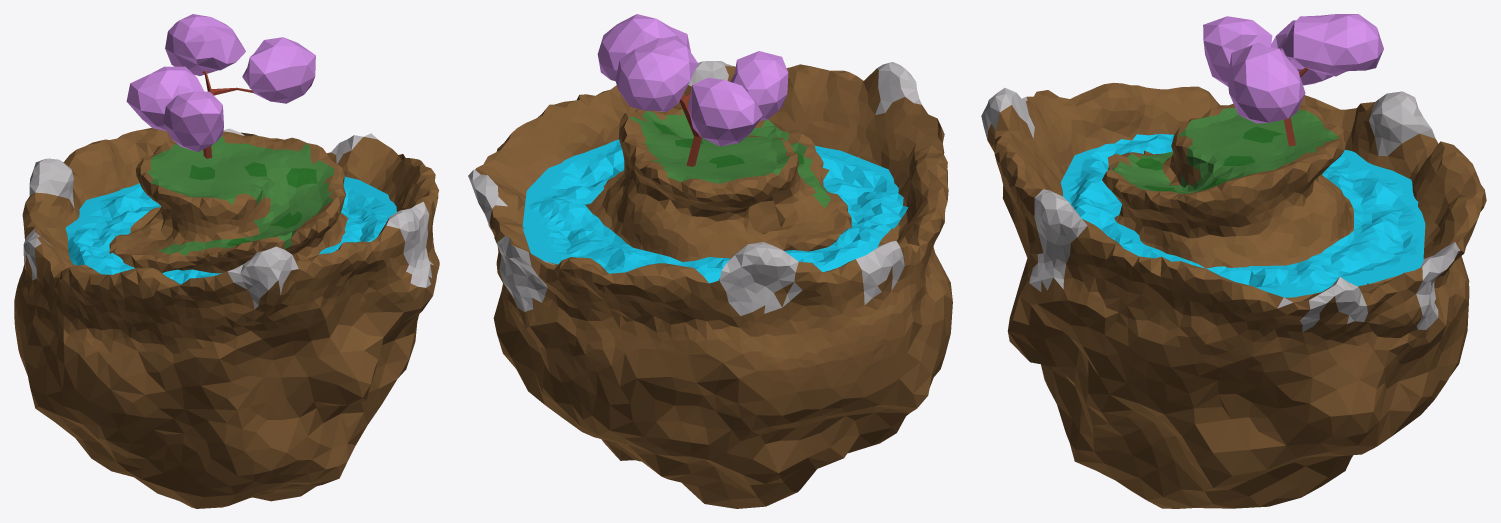
Rendered from Island1.fbx.
3 renders of one model, left to right at view 1: azimuth 30°, elevation 25°; view 2: azimuth 150°, elevation 25°; view 3: azimuth 270°, elevation 25°, orthographic. The views are drawn at different scales.
Visible parts, largest first — view 1: Icosphere, Icosphere.001, Plane; view 2: Icosphere, Plane, Icosphere.001; view 3: Icosphere, Plane, Icosphere.001.
Part boxes in pixels (x1,y1,x2,y2): Icosphere: (14,128,439,508); Icosphere.001: (126,14,315,151); Plane: (65,176,396,284); Icosphere: (468,61,952,508); Plane: (522,139,908,283); Icosphere.001: (597,14,788,146); Icosphere: (981,83,1486,508); Plane: (1060,134,1425,297); Icosphere.001: (1203,14,1383,123).
Bounding box in the file's own units: 2036 × 2132 × 2010.
